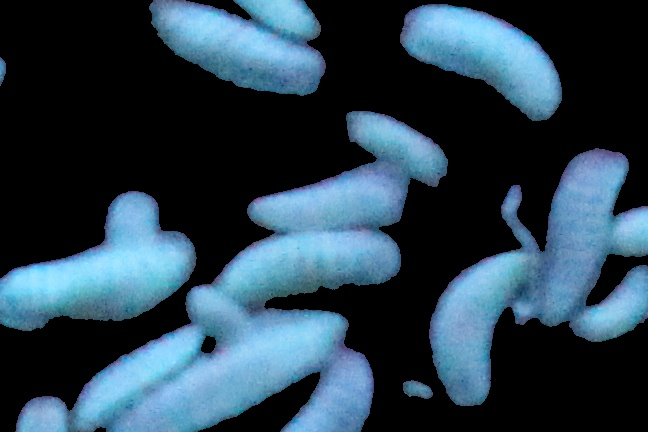larvae: (124, 312, 344, 432), (396, 1, 565, 126), (141, 1, 329, 103), (1, 229, 199, 318), (220, 223, 401, 314), (431, 238, 527, 405), (534, 146, 621, 327), (67, 327, 200, 429), (247, 152, 413, 233), (345, 103, 449, 184), (293, 346, 376, 432), (574, 263, 648, 346), (184, 277, 250, 348), (215, 1, 326, 41), (309, 1, 398, 10), (373, 1, 513, 5)
